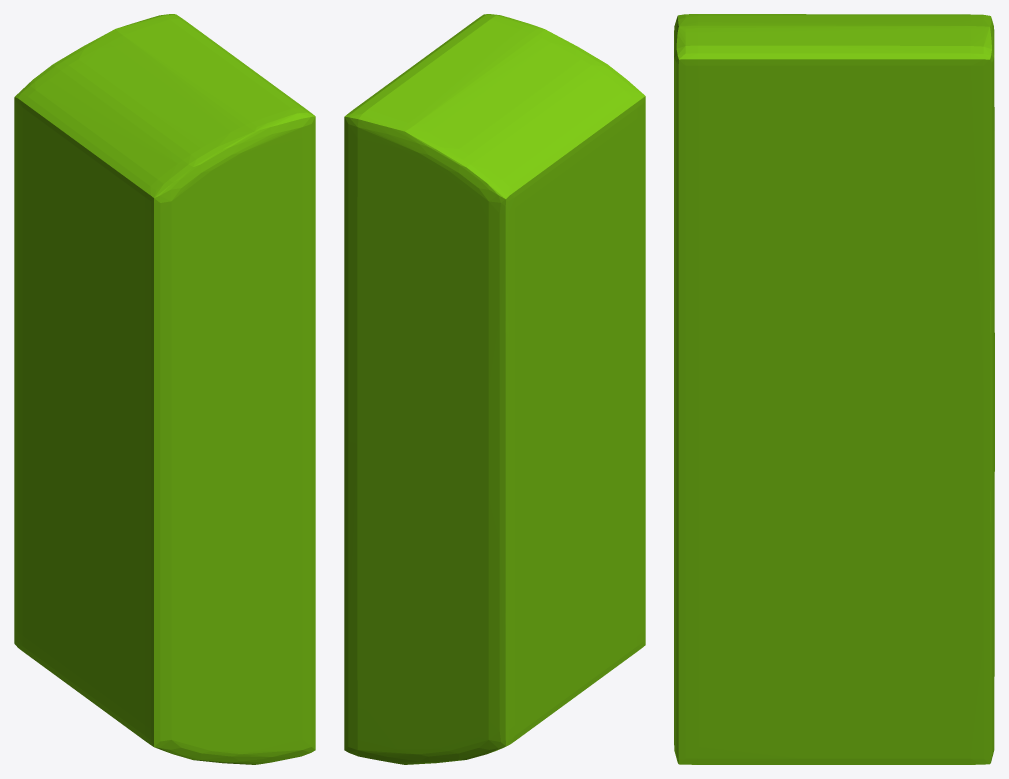
File: left_forearm_1_part_4.obj
3 renders of one model, left to right at view 1: azimuth 30°, elevation 25°; view 2: azimuth 150°, elevation 25°; view 3: azimuth 270°, elevation 25°, orthographic. The views are drawn at different scales.
Bounding box in the file's own units: 36.22 × 137 × 55.71.
